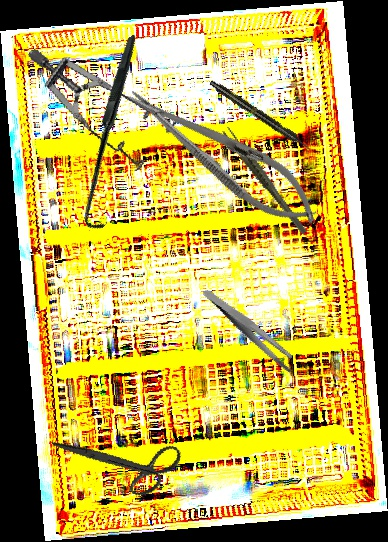Dressing Forceps: (202, 270, 299, 389)
Handpiece: (207, 78, 313, 153)
Hook Surgical: (11, 33, 217, 235)
Iris Scissors: (50, 402, 191, 520)
Needle Holder: (114, 70, 332, 241)
Speculum: (26, 11, 189, 193)
Tissue Forceps: (220, 116, 309, 246)
